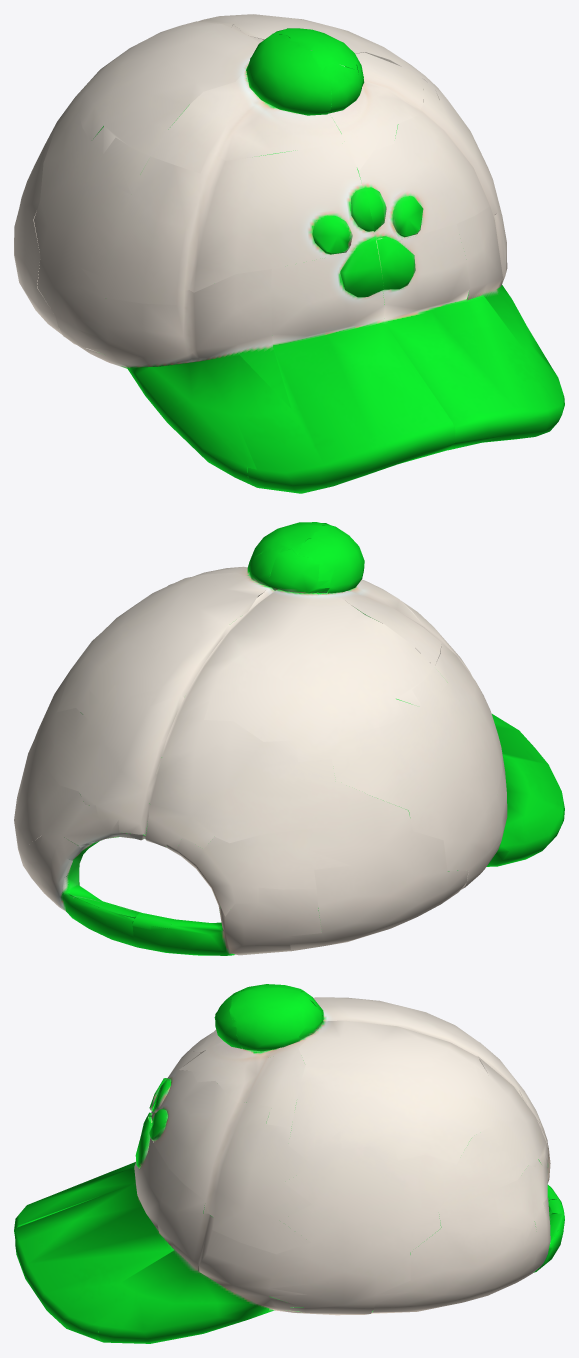
File: wear-hat-green.glb
3 views of the same model, one above another, from view 1: azimuth 30°, elevation 25°; view 2: azimuth 150°, elevation 25°; view 3: azimuth 270°, elevation 25° (orthographic). The views are drawn at different scales.
Parts seen in each view (by area): view 1: wear-hat-green; view 2: wear-hat-green; view 3: wear-hat-green.
Boxes of the visible parts, bbox=[...] form: wear-hat-green: bbox=[14, 14, 564, 493]; wear-hat-green: bbox=[14, 522, 564, 955]; wear-hat-green: bbox=[14, 984, 564, 1343].
Bounding box in the file's own units: 0.2673 × 0.212 × 0.3616.
Materials: 1 (1 with a texture image).
